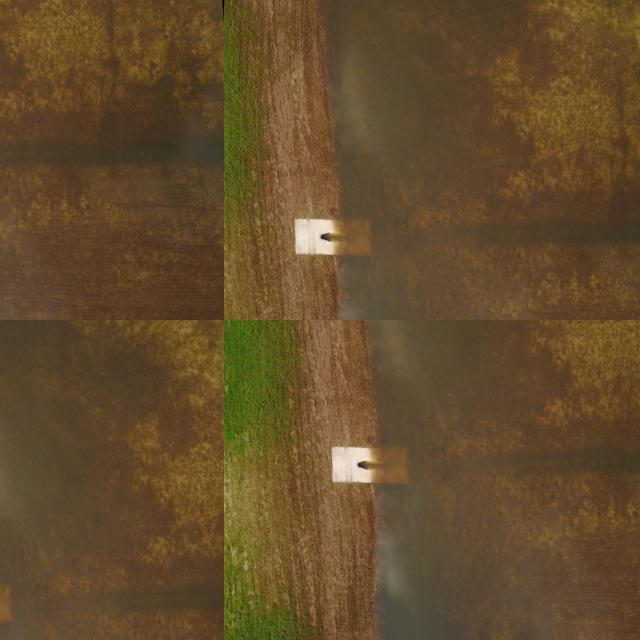fire: (368, 320, 640, 640)
